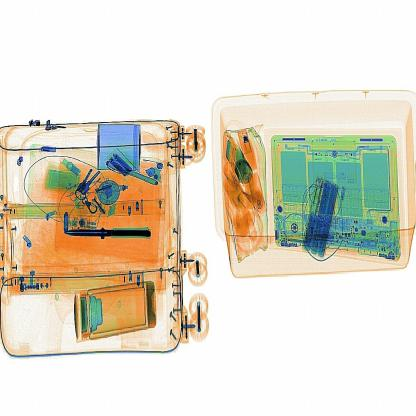gun: (49, 218, 158, 245)
